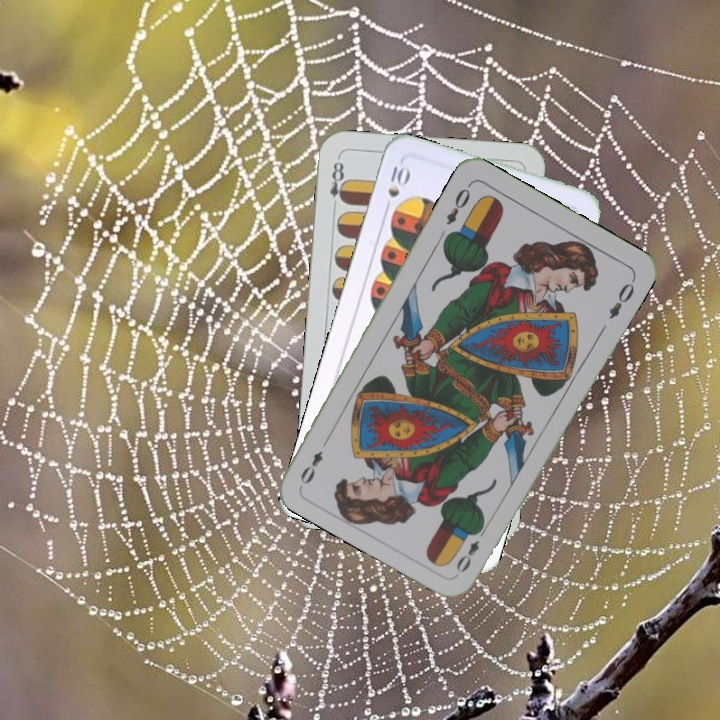E8: (325, 154, 350, 213)
EO: (452, 522, 489, 576), (442, 179, 474, 228)
S10: (382, 160, 413, 215)
